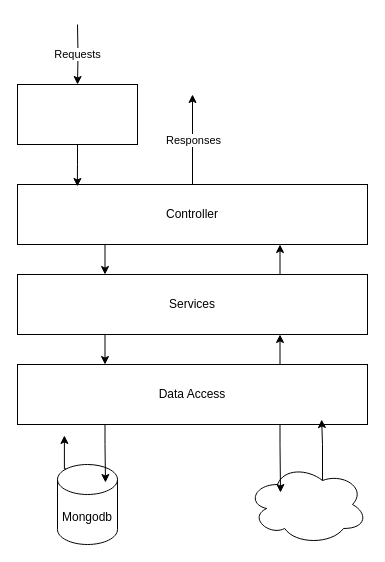
The diagram is 385 pixels wide and 562 high, and some of its shapes have lost their labels. The shapes that lost their labels are listed below. From the top down, each one's centre as x and y in pixels, then its label:
[77,114]: Middleware
[307,504]: ML Model
